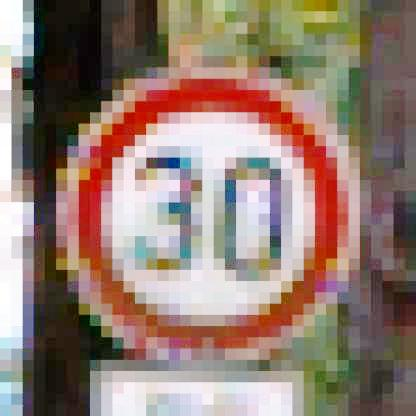Speed Limit -30-: (57, 67, 364, 362)
